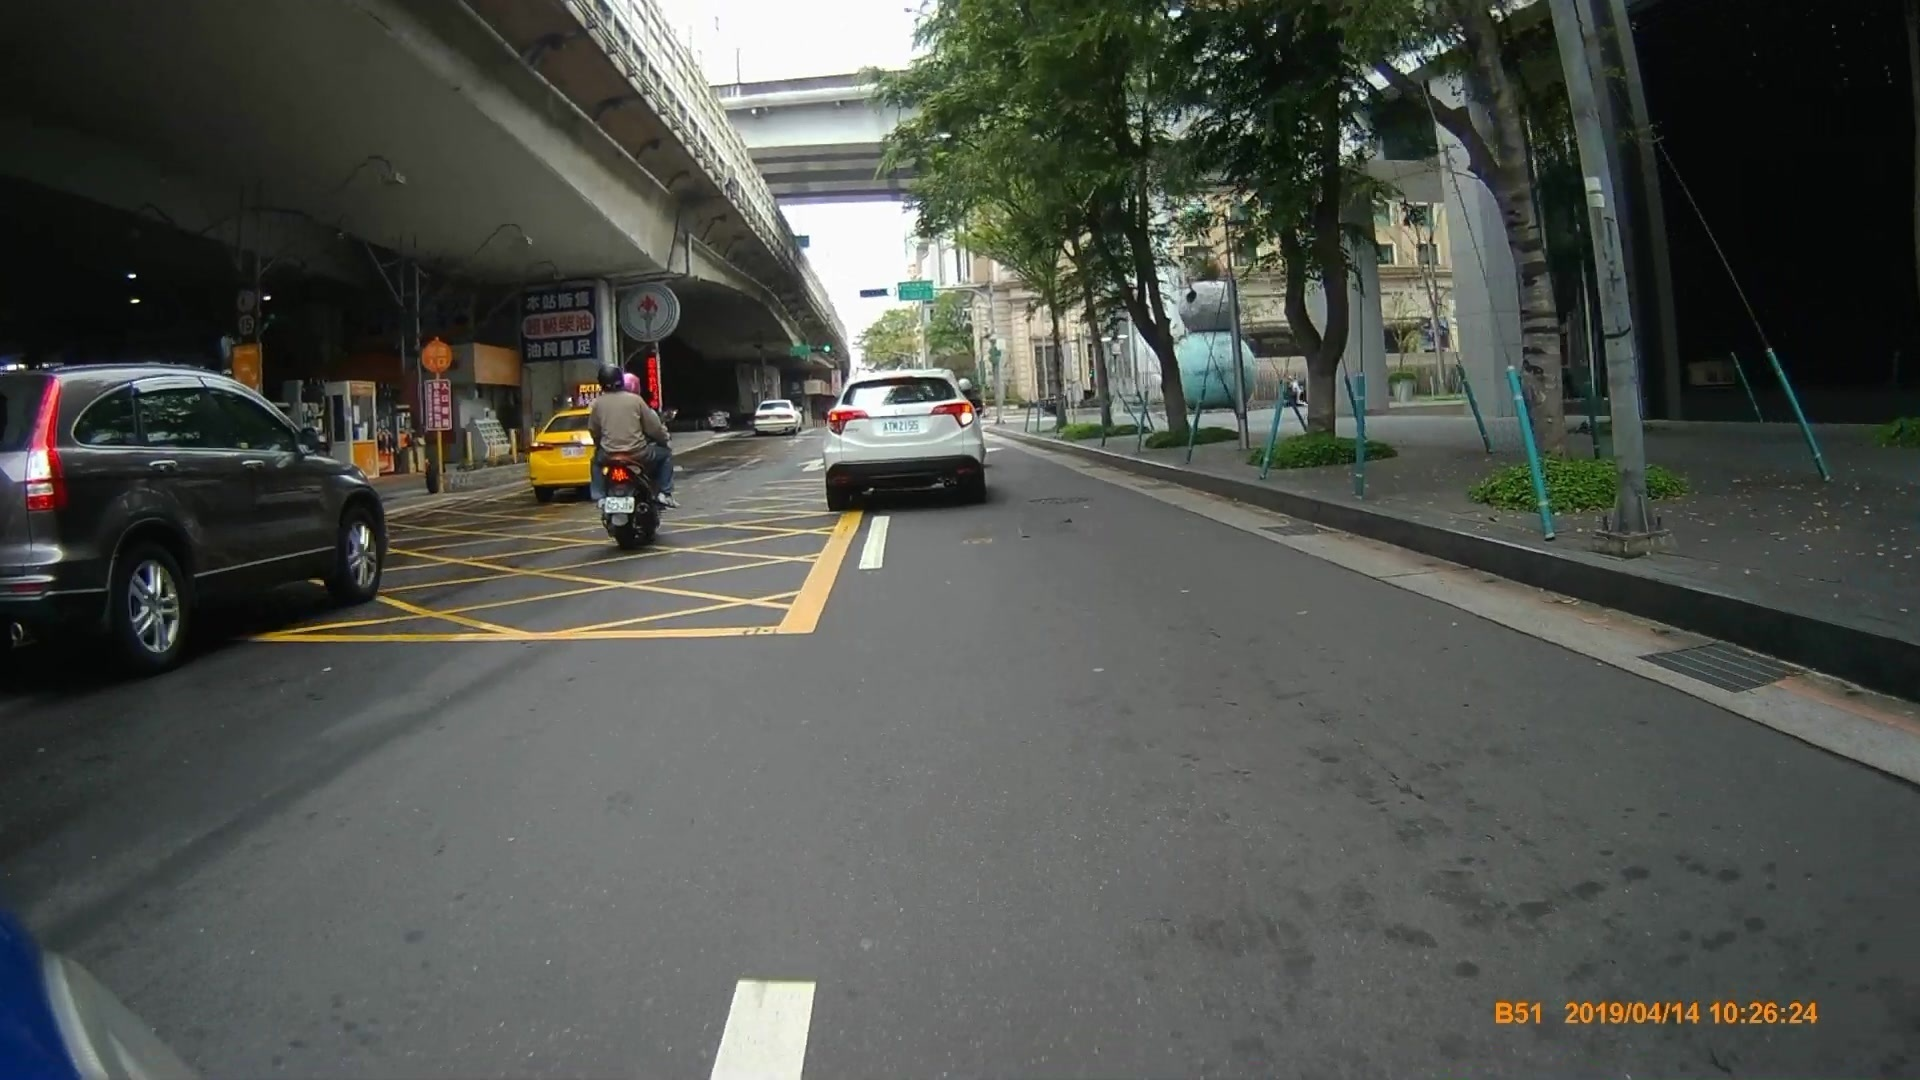License_plate: (883, 417, 923, 438), (606, 498, 633, 512)
